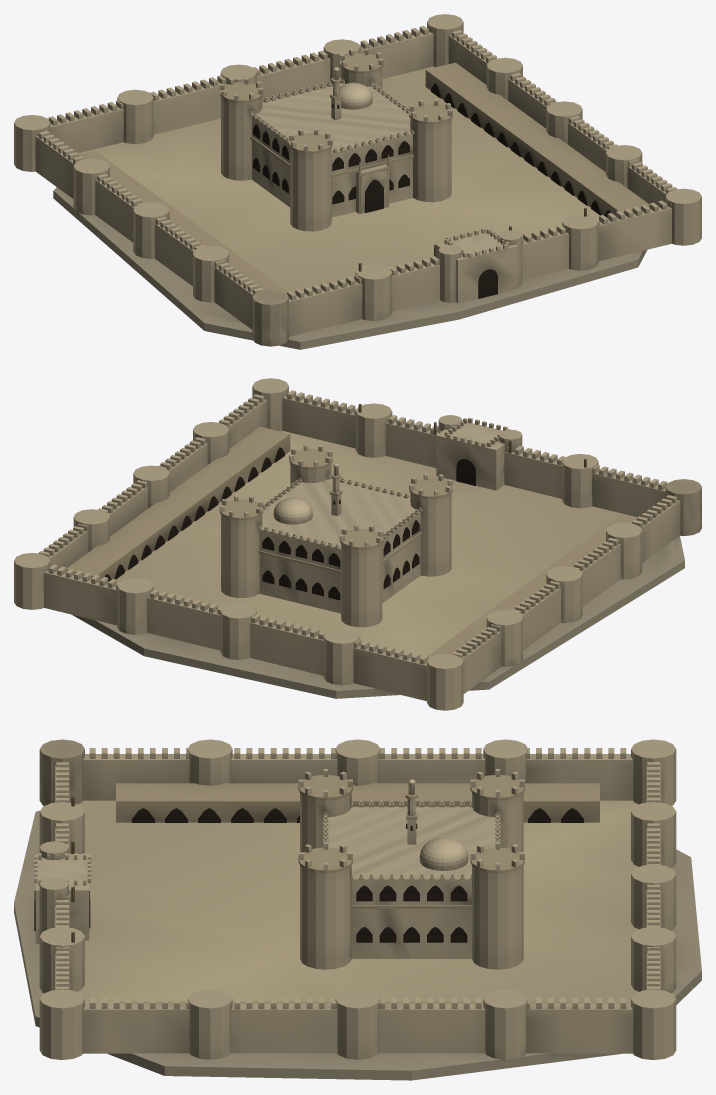
File: qaitbay.glb
The picture shows the model from 3 angles, top to bottom: view 1: azimuth 30°, elevation 25°; view 2: azimuth 150°, elevation 25°; view 3: azimuth 270°, elevation 25°; orthographic projection. The views are drawn at different scales.
Parts seen in each view (by area): view 1: p0_walls, p1_keep, p2_minaret; view 2: p0_walls, p1_keep, p2_minaret; view 3: p0_walls, p1_keep, p2_minaret.
Boxes of the visible parts, <box> form: p0_walls: <box>14,14,701,349</box>; p1_keep: <box>219,48,452,231</box>; p2_minaret: <box>330,66,586,271</box>; p0_walls: <box>14,378,701,710</box>; p1_keep: <box>219,444,452,627</box>; p2_minaret: <box>273,404,586,524</box>; p0_walls: <box>14,739,701,1080</box>; p1_keep: <box>298,769,524,969</box>; p2_minaret: <box>71,778,468,942</box>.
Size of the model in its own units: 128 by 32.42 by 128.
